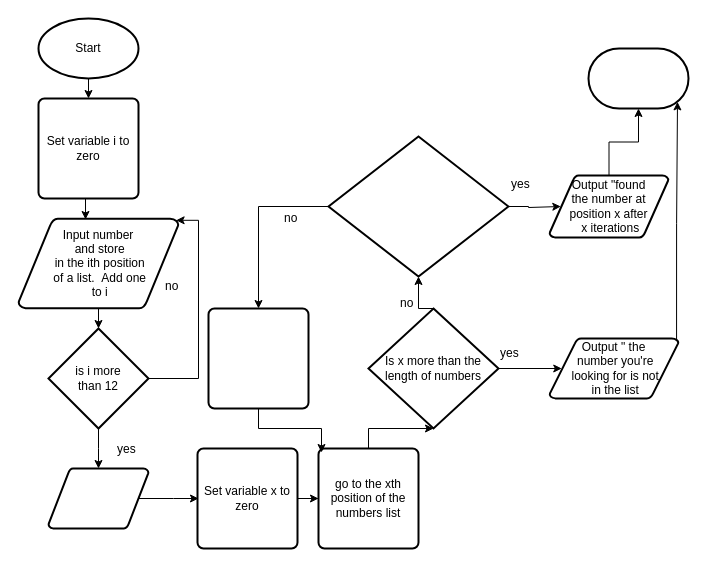
Some shapes in this 706 by 566 pixel diagram are drawn without their labels. Each missing label, with the box of its shape:
Add one to x: (207, 307, 309, 409)
End: (587, 47, 689, 109)
Input number to search for: (47, 467, 149, 529)
Is the value at that position equal to the value you are searching for: (327, 135, 509, 277)
